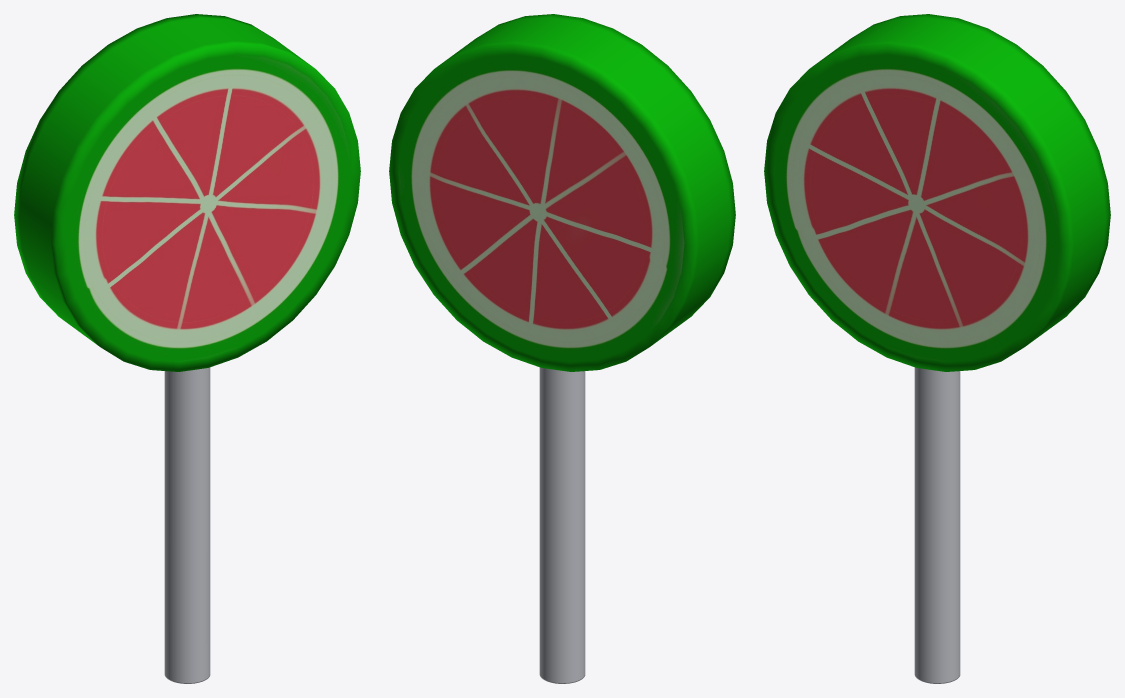
The model's file is lollipop_trap2.fbx.
The picture shows the model from 3 angles, left to right: view 1: azimuth 30°, elevation 25°; view 2: azimuth 150°, elevation 25°; view 3: azimuth 330°, elevation 25°; orthographic projection.
Parts seen in each view (by area): view 1: lollipop_trap2; view 2: lollipop_trap2; view 3: lollipop_trap2.
Part boxes in pixels (box(x1,y1,x2,y2)): lollipop_trap2: box(14, 14, 360, 683); lollipop_trap2: box(389, 14, 735, 683); lollipop_trap2: box(764, 14, 1110, 683).
Size of the model in its own units: 1.82 by 3.65 by 0.4327.
Materials: 2 (2 with a texture image).
